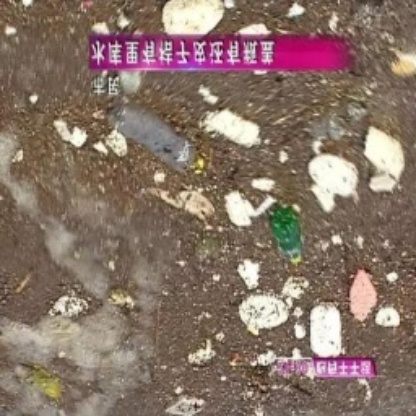bottle: (121, 108, 209, 178), (270, 208, 307, 264)
